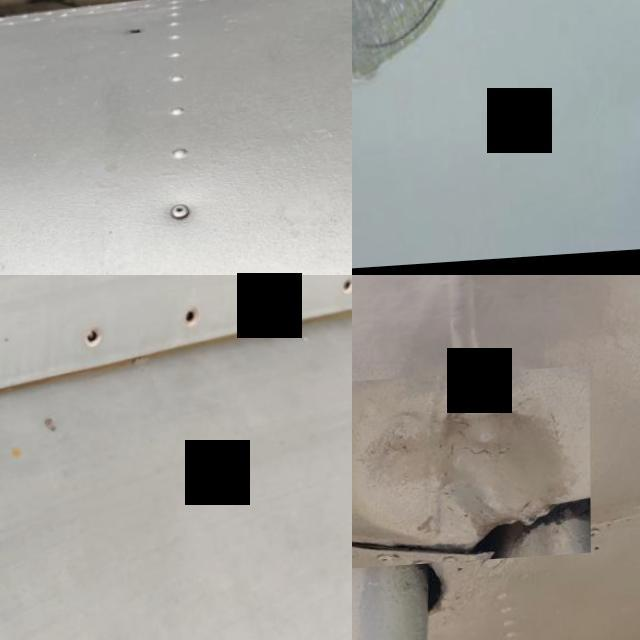Dent: (352, 371, 590, 571)
Missing_Fastener: (249, 280, 297, 330), (70, 318, 117, 367), (166, 297, 214, 344), (330, 275, 352, 311)
